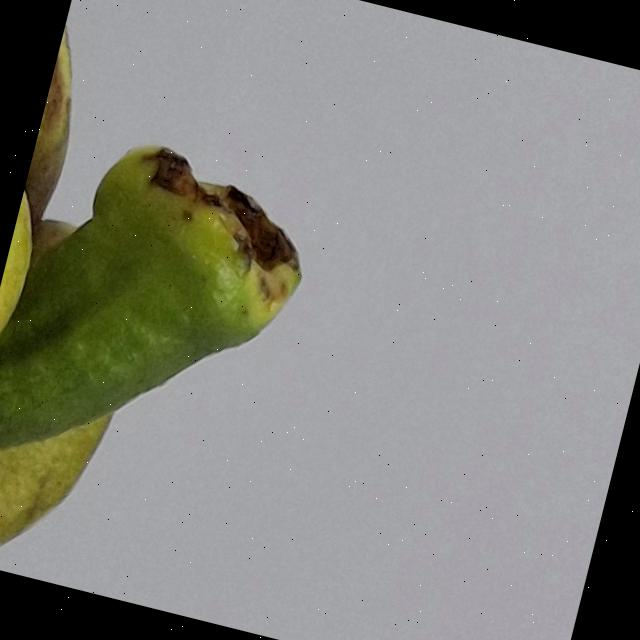mangosteen: (0, 0, 441, 640)
